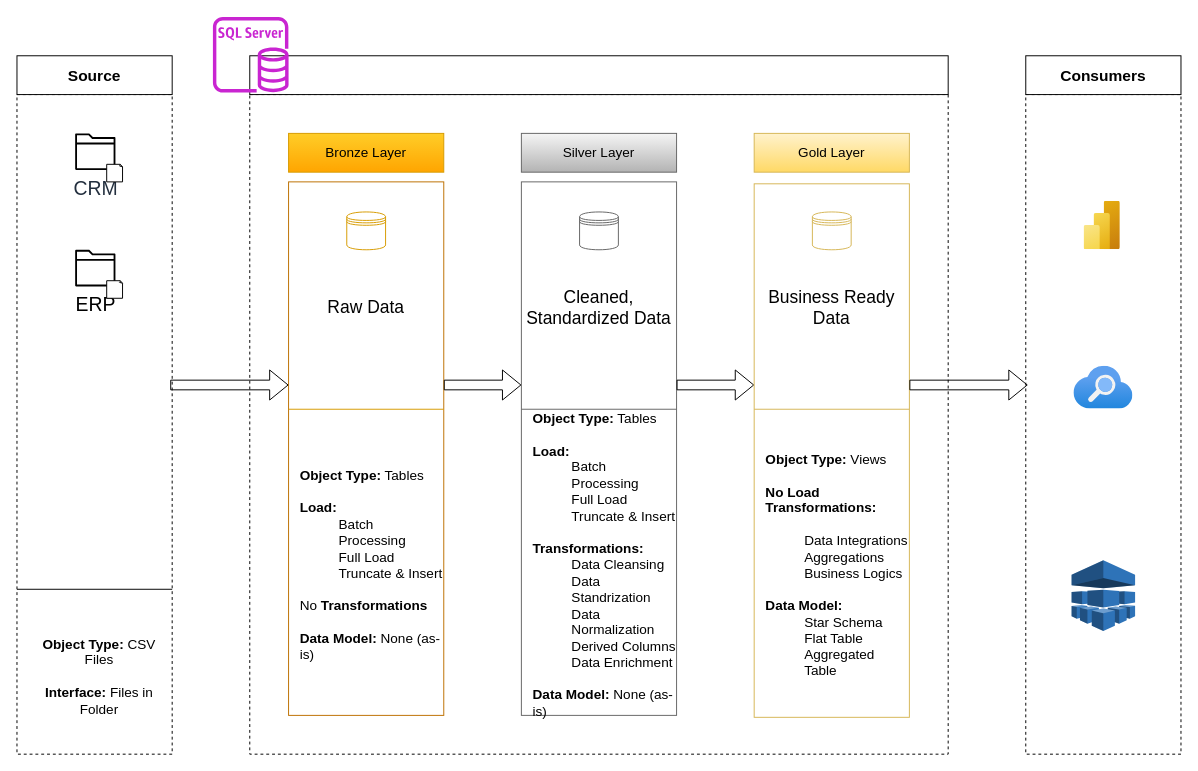
Image size: 1198x771. Some labels were removed from this diagram. Each missing label, with the centre of its shape:
"Ad-Hoc SQL Queries" belongs at [1103,387].
"BI & Reporting" belongs at [1101,225].
"Data Warehouse" belongs at [598,75].
"Machine Learning" belongs at [1103,595].
